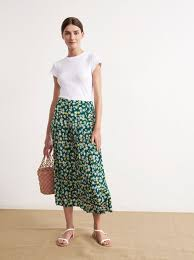C_T-shirt: (52, 50, 103, 101)
C_skirt: (43, 95, 122, 217)
